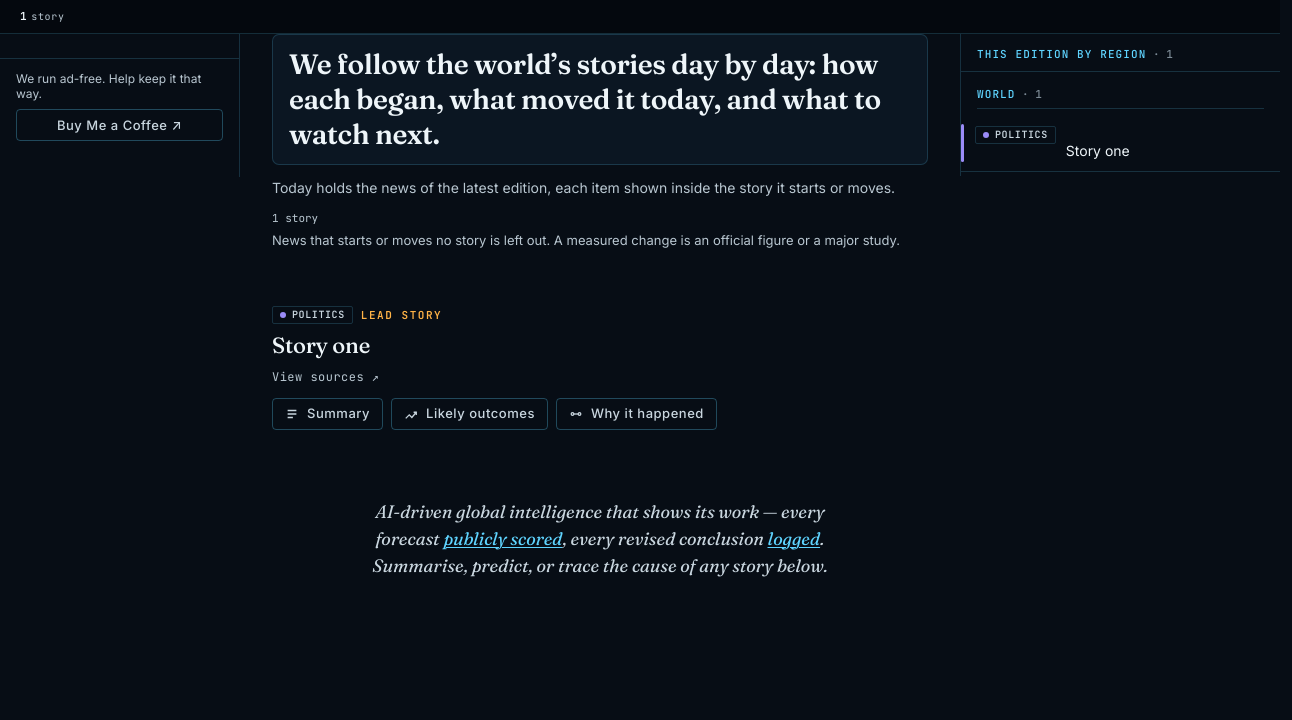
it: /today failure states › a topic whose view shows a forecast (or cannot prove none) still asks and reports as before
This screenshot has width=1292, height=720.
Click the button "Likely outcomes" at point(469, 414), box [391,398,548,430]
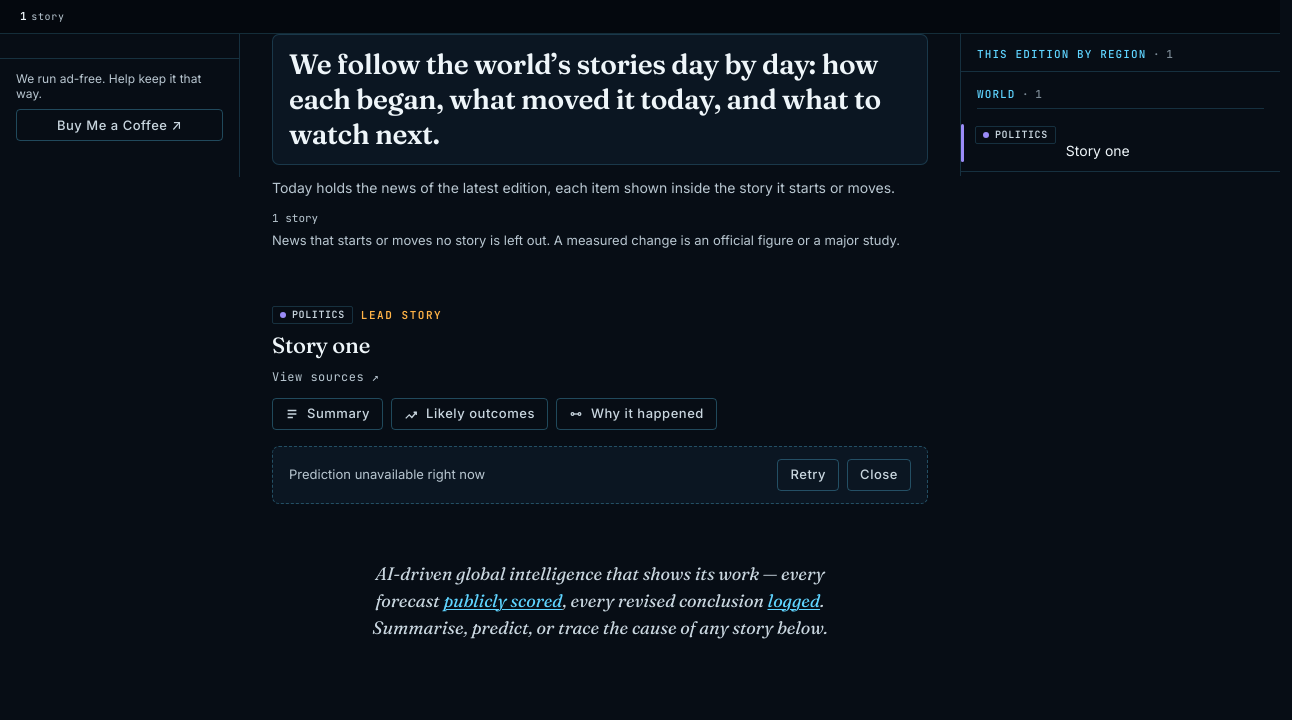
Expected: the text "Prediction unavailable right now" is shown, [289,465,485,484]
